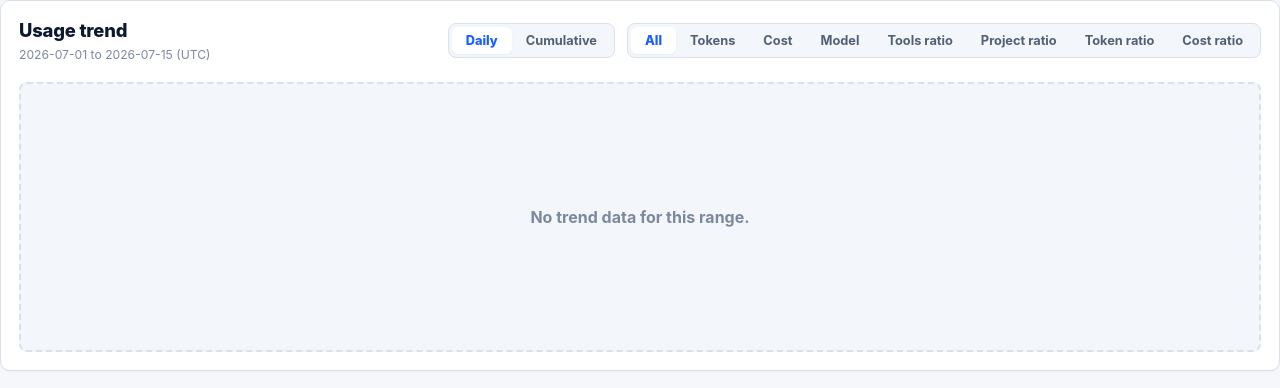
Scenario: TrendPanel controls › keeps absolute trend labels unchanged and labels ratio filters explicitly
Expected: the button "All" is shown, x1=631 y1=27 x2=676 y2=54
Expected: the button "Tokens" is shown, x1=676 y1=27 x2=749 y2=54
Click the button "Project ratio". click: (1019, 40)
box: x1=967 y1=27 x2=1071 y2=54
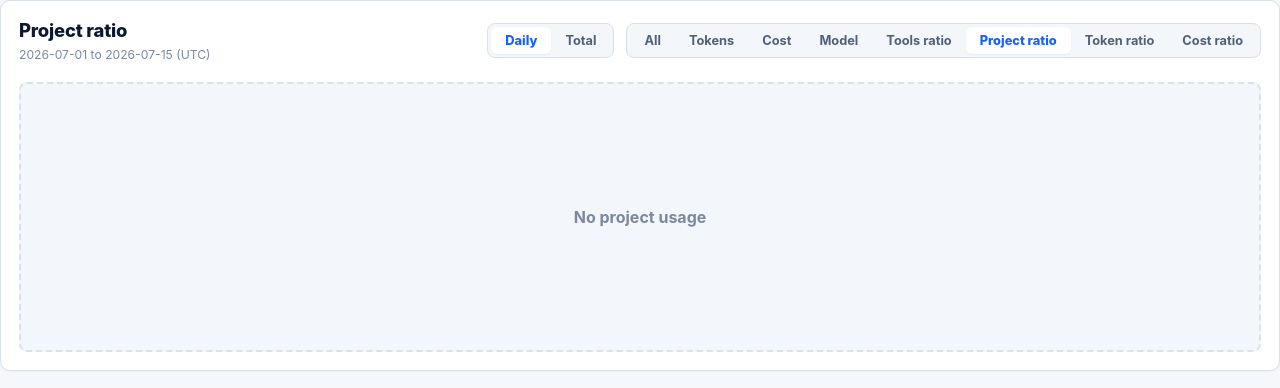
Expected: the text "2026-07-01 to 2026-07-15 (UTC)" is shown, x1=19 y1=47 x2=210 y2=62
Expected: the heading "Project ratio" is shown, x1=19 y1=19 x2=127 y2=41
Expected: the button "Total" is shown
Click the button "Total". click: (581, 40)
box: x1=551 y1=27 x2=610 y2=54
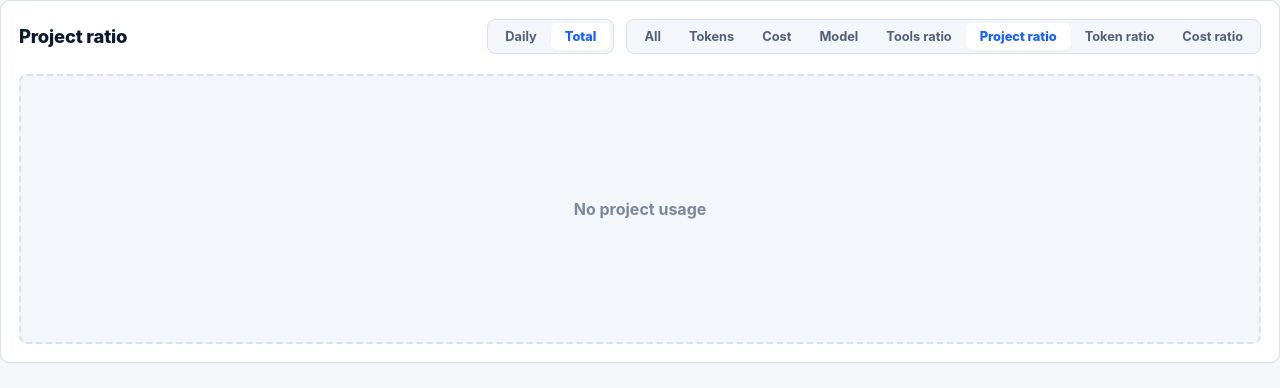
Expected: the text "2026-07-01 to 2026-07-15 (UTC)" is gone
Click the button "Tools ratio". click: (919, 36)
box: x1=872 y1=23 x2=966 y2=50
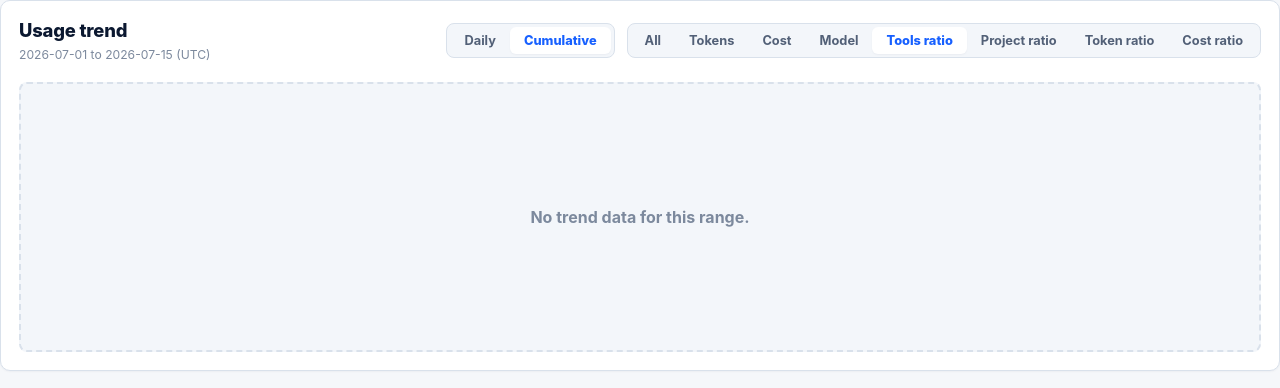
Expected: the button "Cumulative" is shown, x1=510 y1=27 x2=611 y2=54
